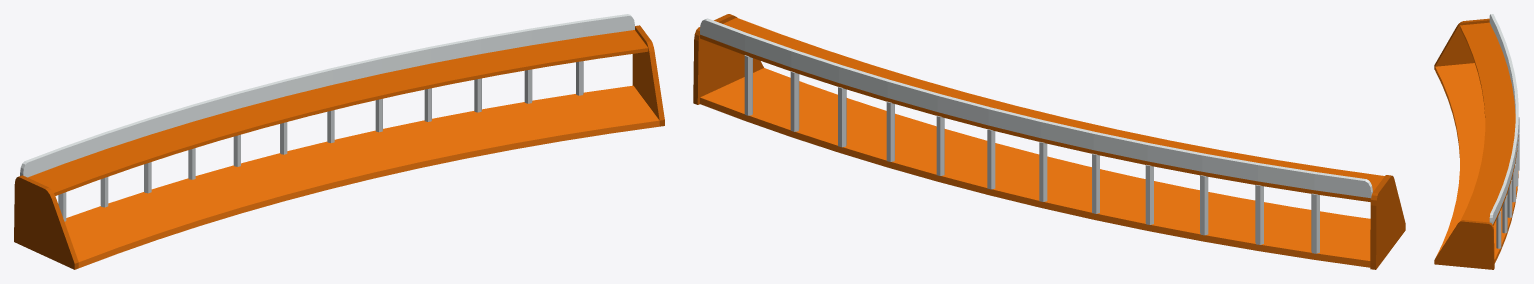
Rendered from shelf_5.fbx.
3 renders of one model, left to right at view 1: azimuth 30°, elevation 25°; view 2: azimuth 150°, elevation 25°; view 3: azimuth 270°, elevation 25°, orthographic. The views are drawn at different scales.
Visible parts, largest first — view 1: shelf_5; view 2: shelf_5; view 3: shelf_5.
Boxes of the visible parts, bbox=[...] form: shelf_5: bbox=[14, 14, 664, 269]; shelf_5: bbox=[693, 14, 1405, 269]; shelf_5: bbox=[1434, 14, 1519, 269].
Size of the model in its own units: 933 by 112 by 163.
